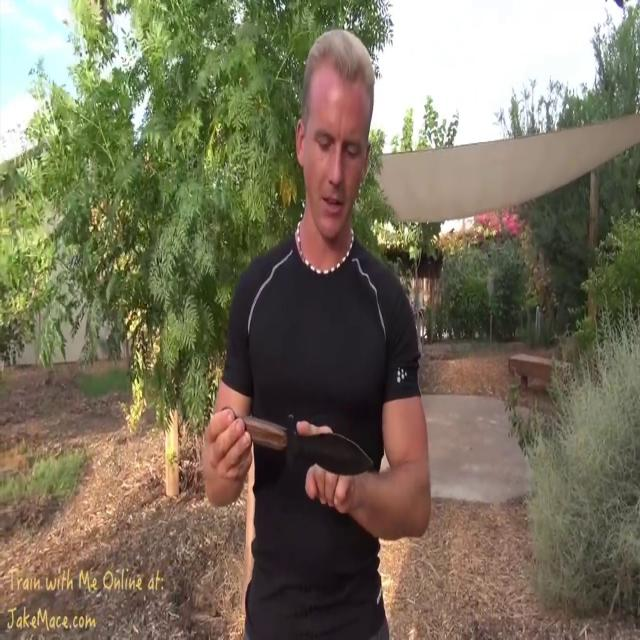knife: (229, 404, 375, 486)
